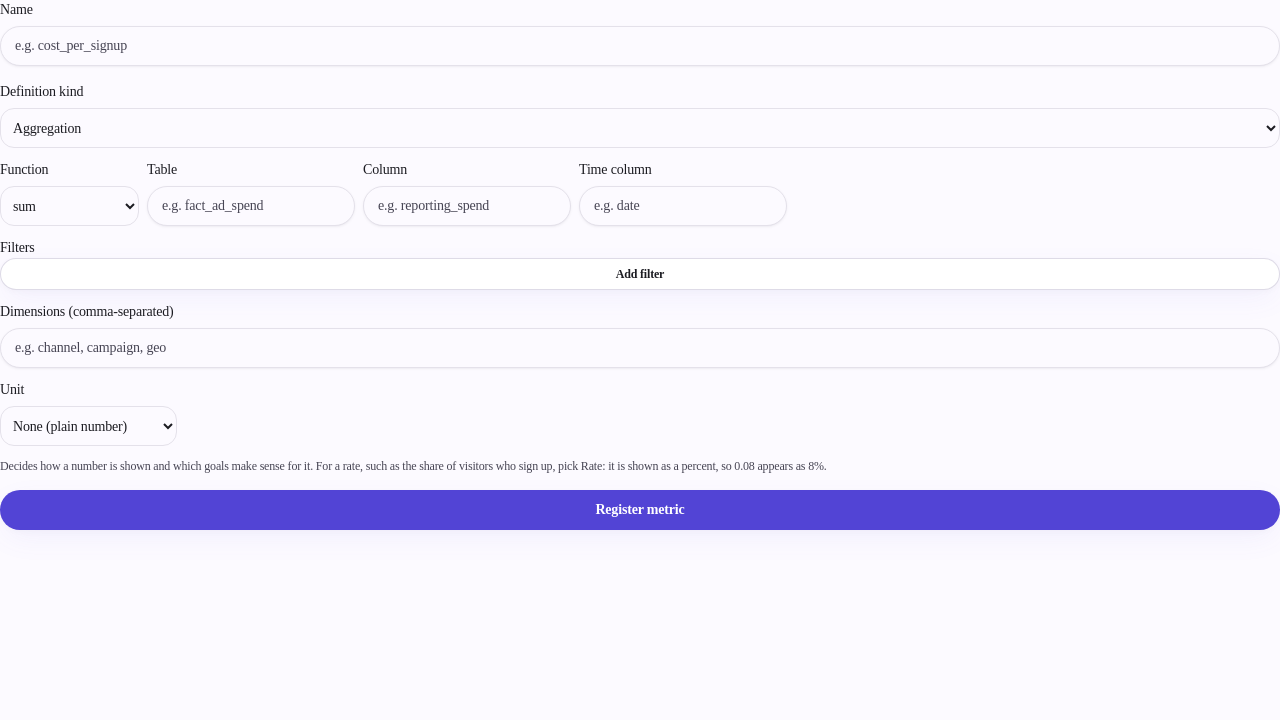
RegisterMetricDefForm › adds and removes filter rows
Click the button "Add filter": (640, 274) left=0, top=258, right=1279, bottom=290
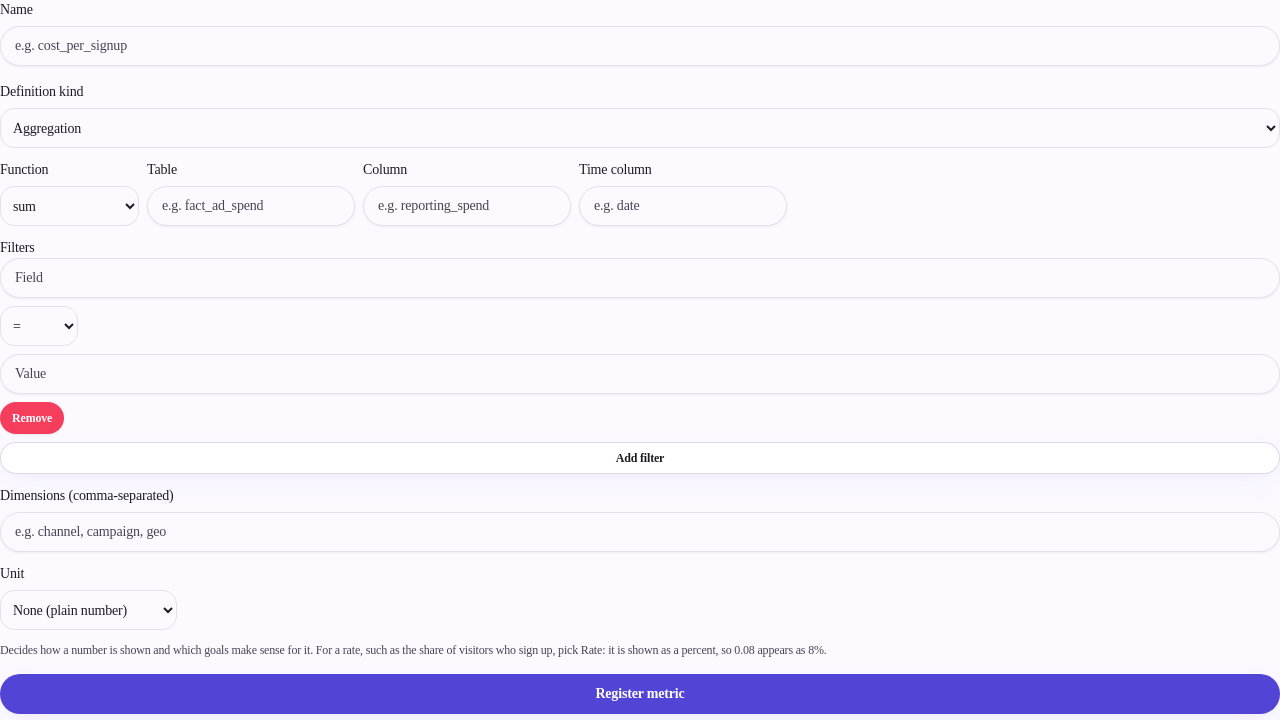
Now the number of fields labelled "Field" is 1, box left=0, top=258, right=1279, bottom=298
Click the button "Remove": (32, 418) left=0, top=402, right=64, bottom=434
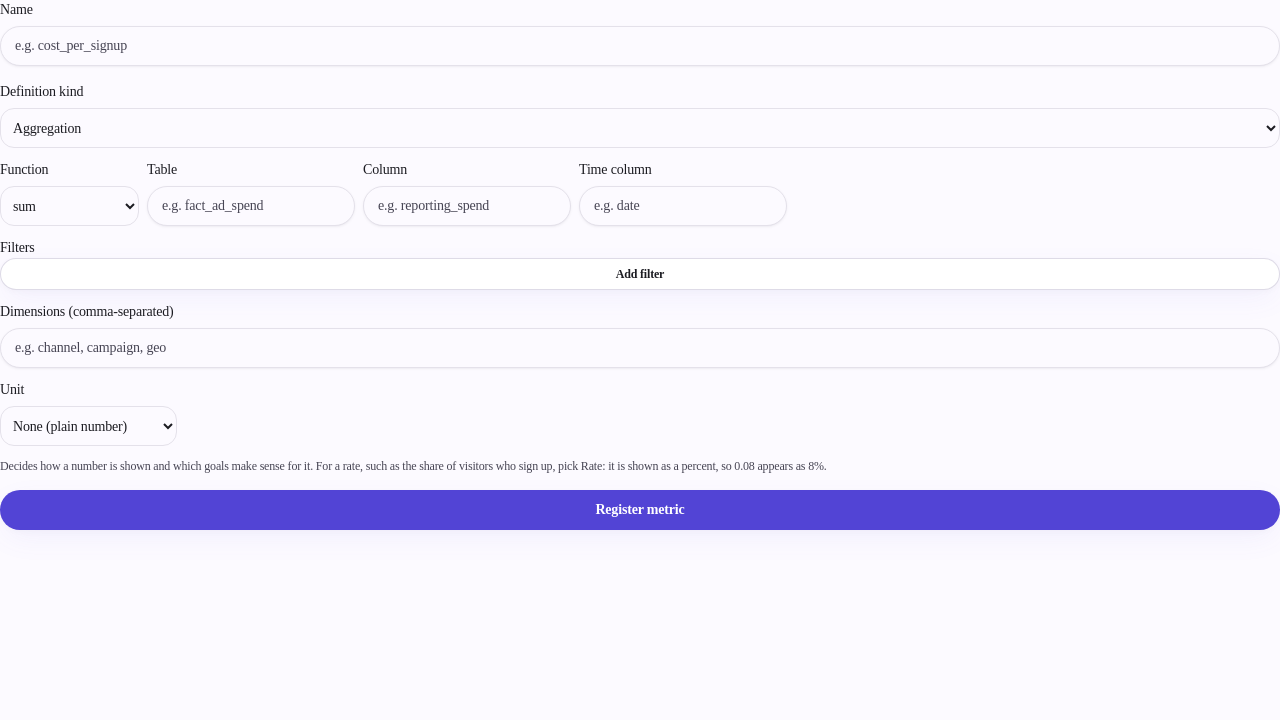
Now no fields labelled "Field" are shown
